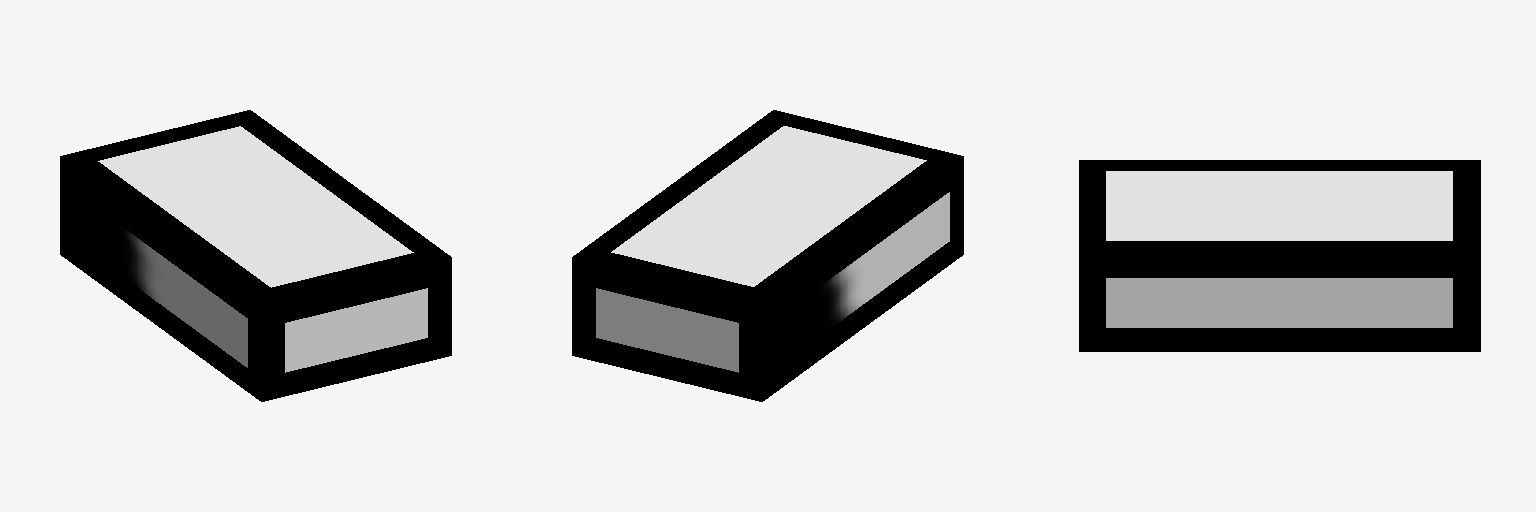
The picture shows the model from 3 angles: view 1: azimuth 30°, elevation 25°; view 2: azimuth 150°, elevation 25°; view 3: azimuth 270°, elevation 25°; orthographic projection.
Visible parts, largest first — view 1: LegL_立方体.002; view 2: LegL_立方体.002; view 3: LegL_立方体.002.
Part boxes in pixels (x1,y1,x2,y2): LegL_立方体.002: (60, 110, 451, 401); LegL_立方体.002: (572, 110, 963, 401); LegL_立方体.002: (1079, 160, 1480, 351).
Bounding box in the file's own units: 0.7981 × 0.3972 × 1.46.
1 materials, 1 textured.